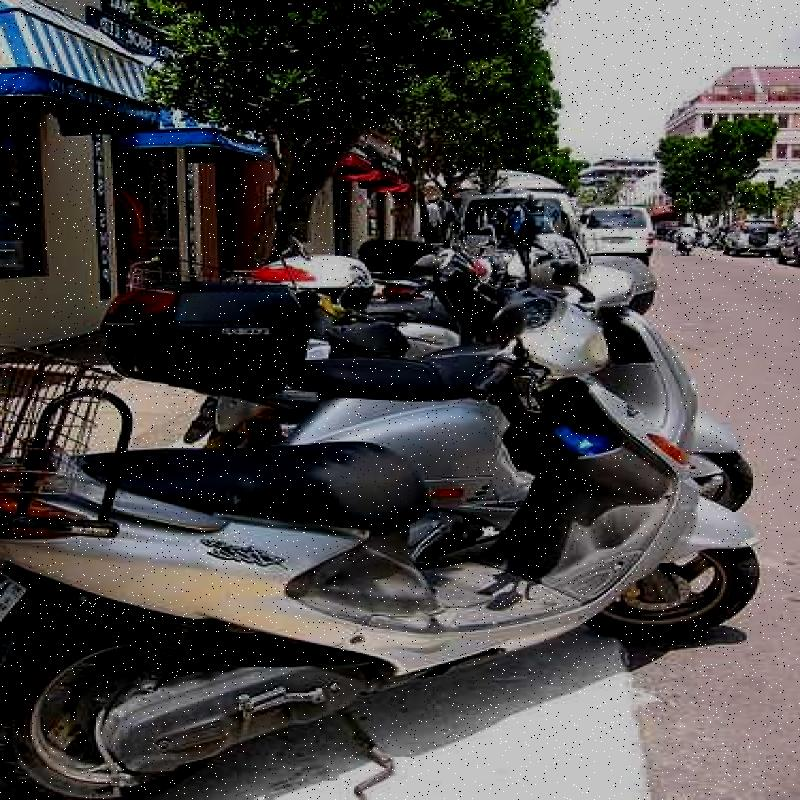bike: (0, 272, 698, 800), (229, 237, 655, 488)
